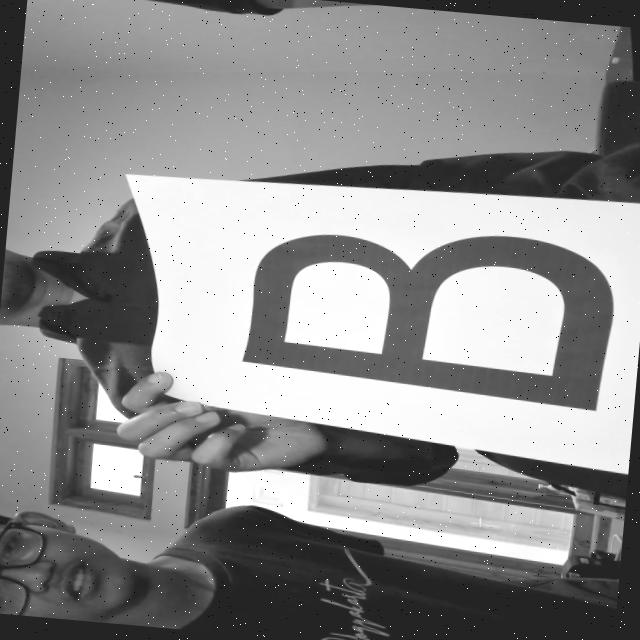b: (222, 207, 639, 421)
